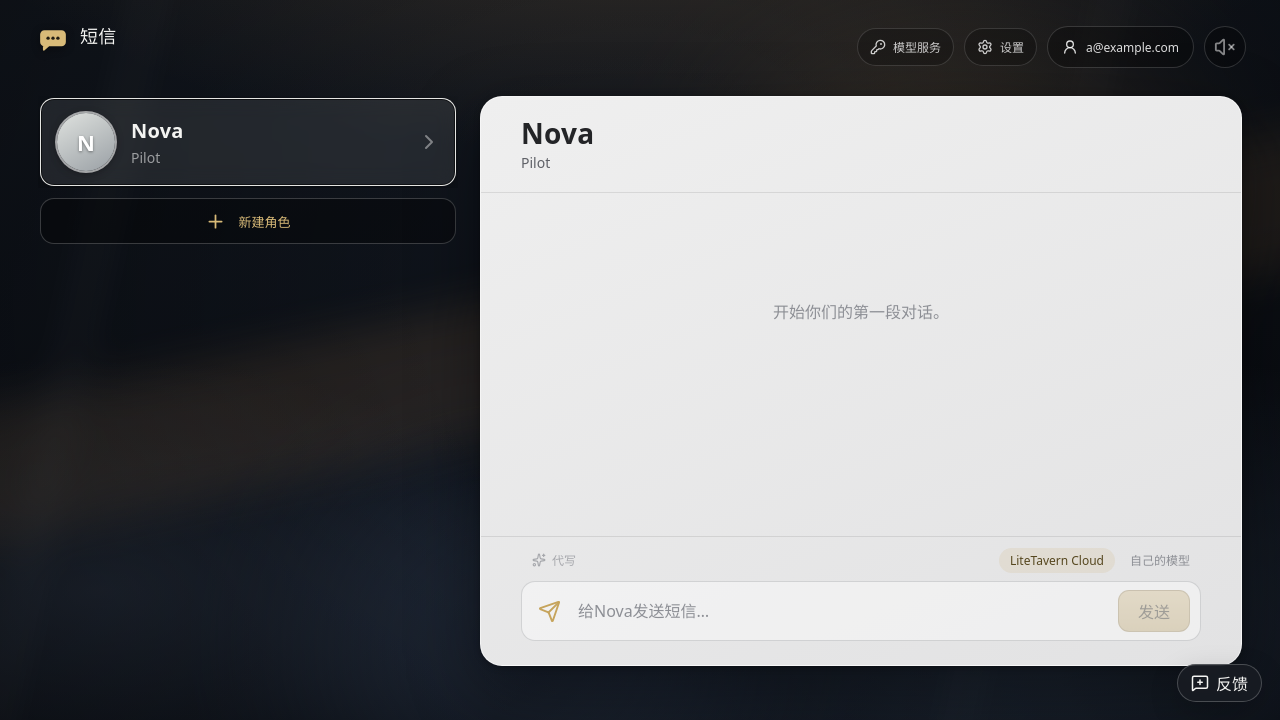
Test: renders real SSE deltas and lets the user stop without starting a fallback generation
In the text box with placeholder "Nova": [841, 611] box [576, 597, 1106, 625], type "hello"
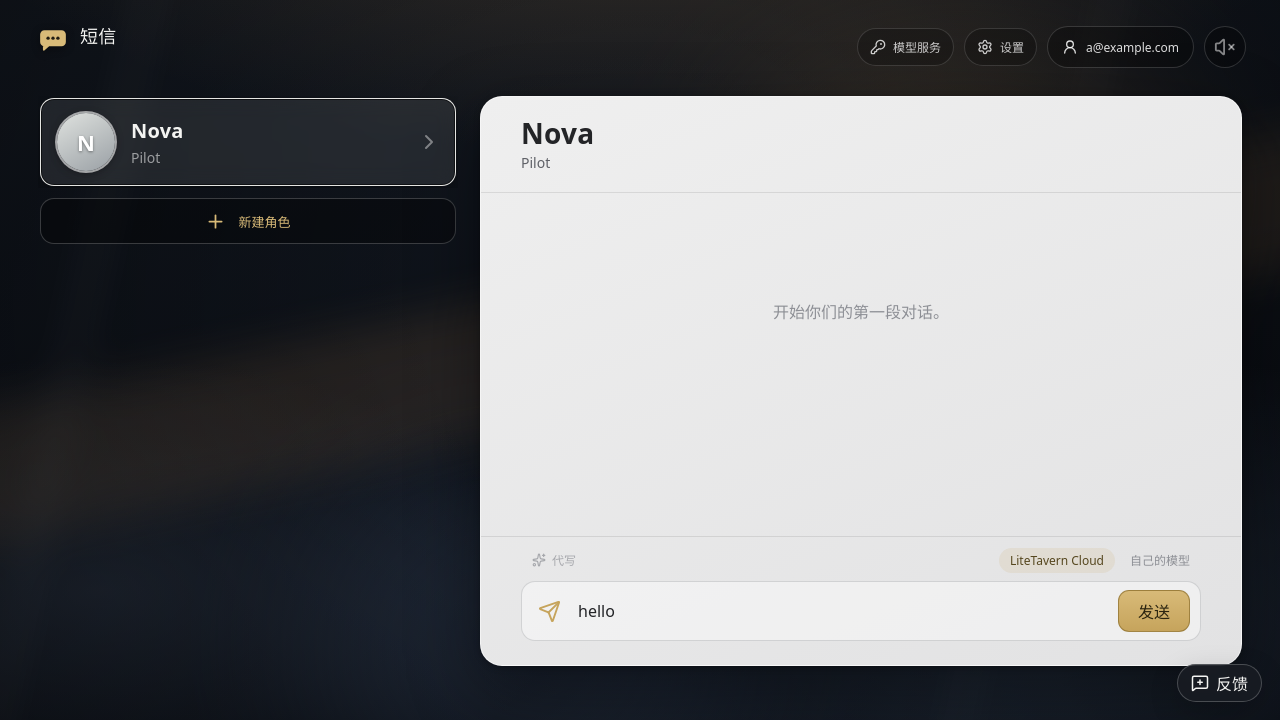
Click the button "发送": [1154, 611] box [1118, 590, 1190, 632]
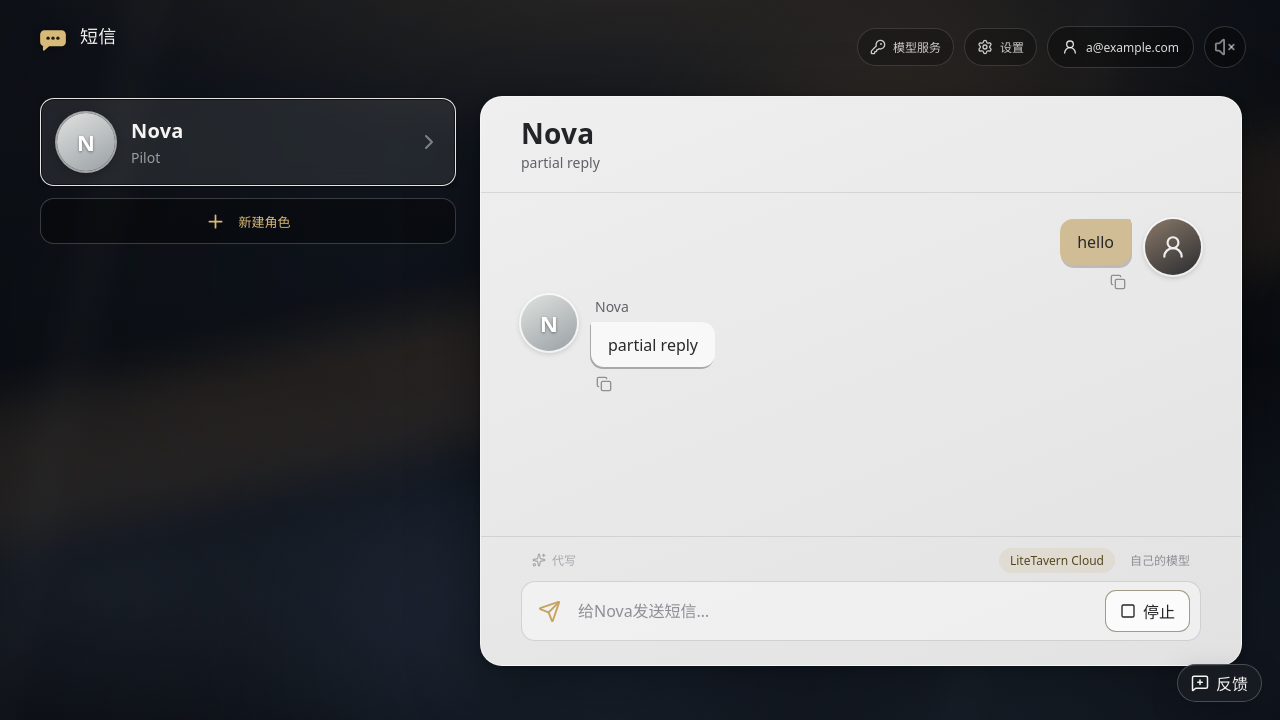
Now the 2nd text "partial reply" is shown, box [591, 322, 715, 367]
Click the button "停止": [1148, 611] box [1105, 590, 1190, 632]
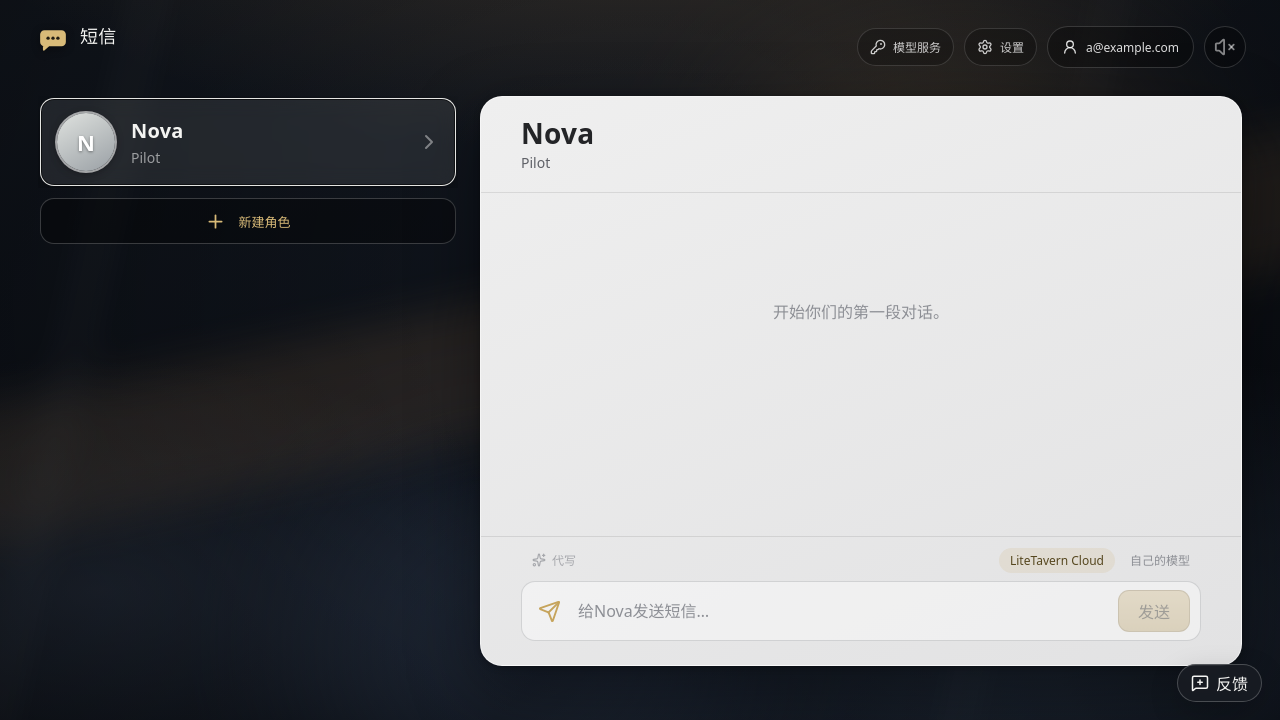
Now the button "partial reply" is gone
